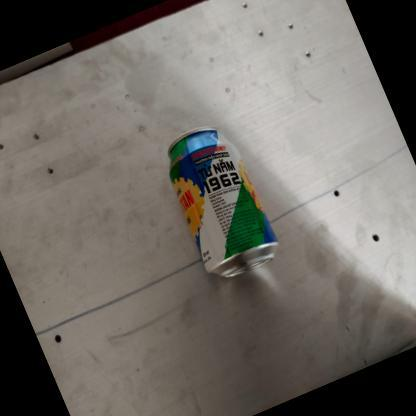debris: (145, 106, 300, 310)
